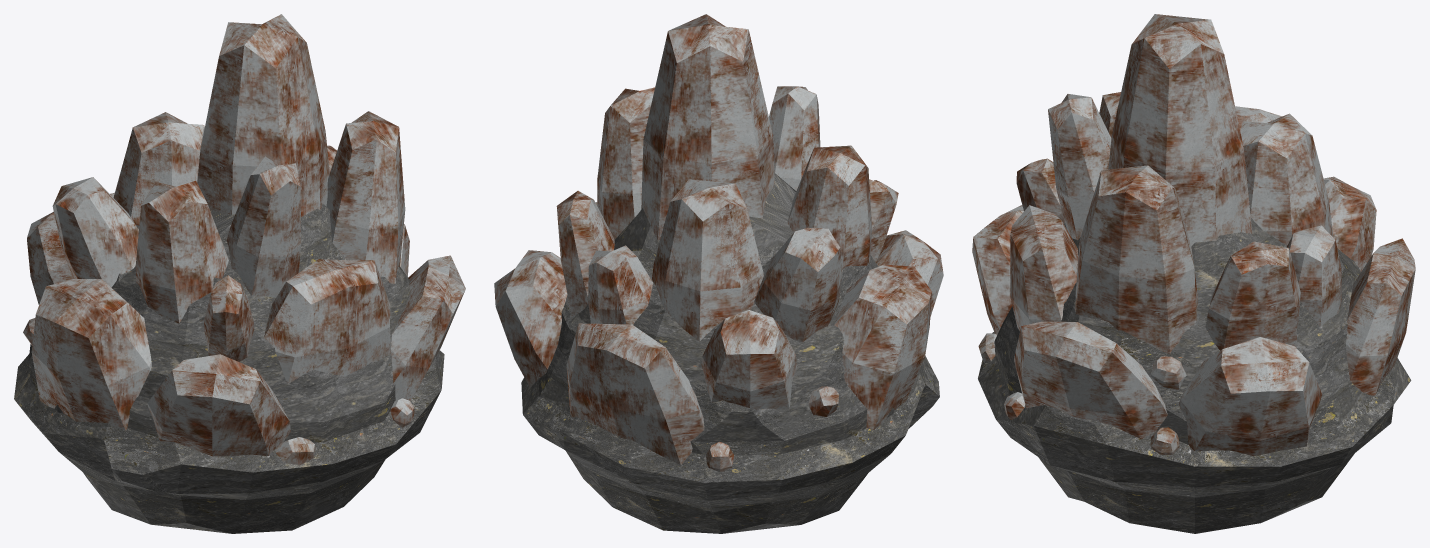
The model's file is iron_1.fbx.
The picture shows the model from 3 angles, left to right: view 1: azimuth 30°, elevation 25°; view 2: azimuth 150°, elevation 25°; view 3: azimuth 270°, elevation 25°; orthographic projection. The views are drawn at different scales.
Visible parts, largest first — view 1: big_ore_2_Cube.124; view 2: big_ore_2_Cube.124; view 3: big_ore_2_Cube.124.
Part boxes in pixels (left/top/right/bottom): big_ore_2_Cube.124: left=14, top=14, right=465, bottom=533; big_ore_2_Cube.124: left=494, top=14, right=943, bottom=533; big_ore_2_Cube.124: left=972, top=14, right=1415, bottom=533.
Bounding box in the file's own units: 137 × 155 × 132.
2 materials, 2 textured.
